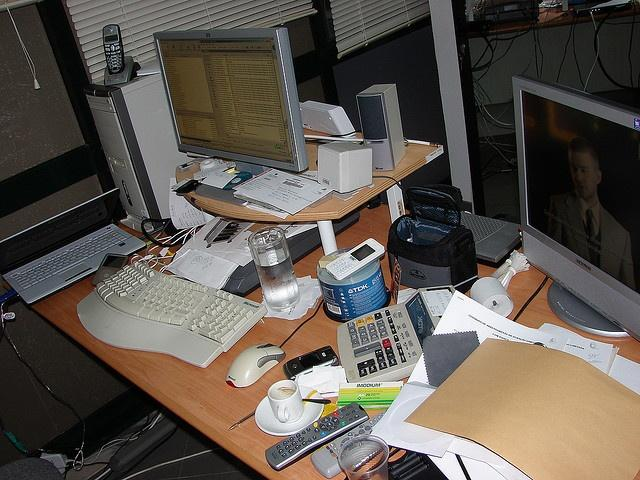AIO PC-Monitor-TV: (511, 75, 639, 342), (152, 27, 300, 173)
